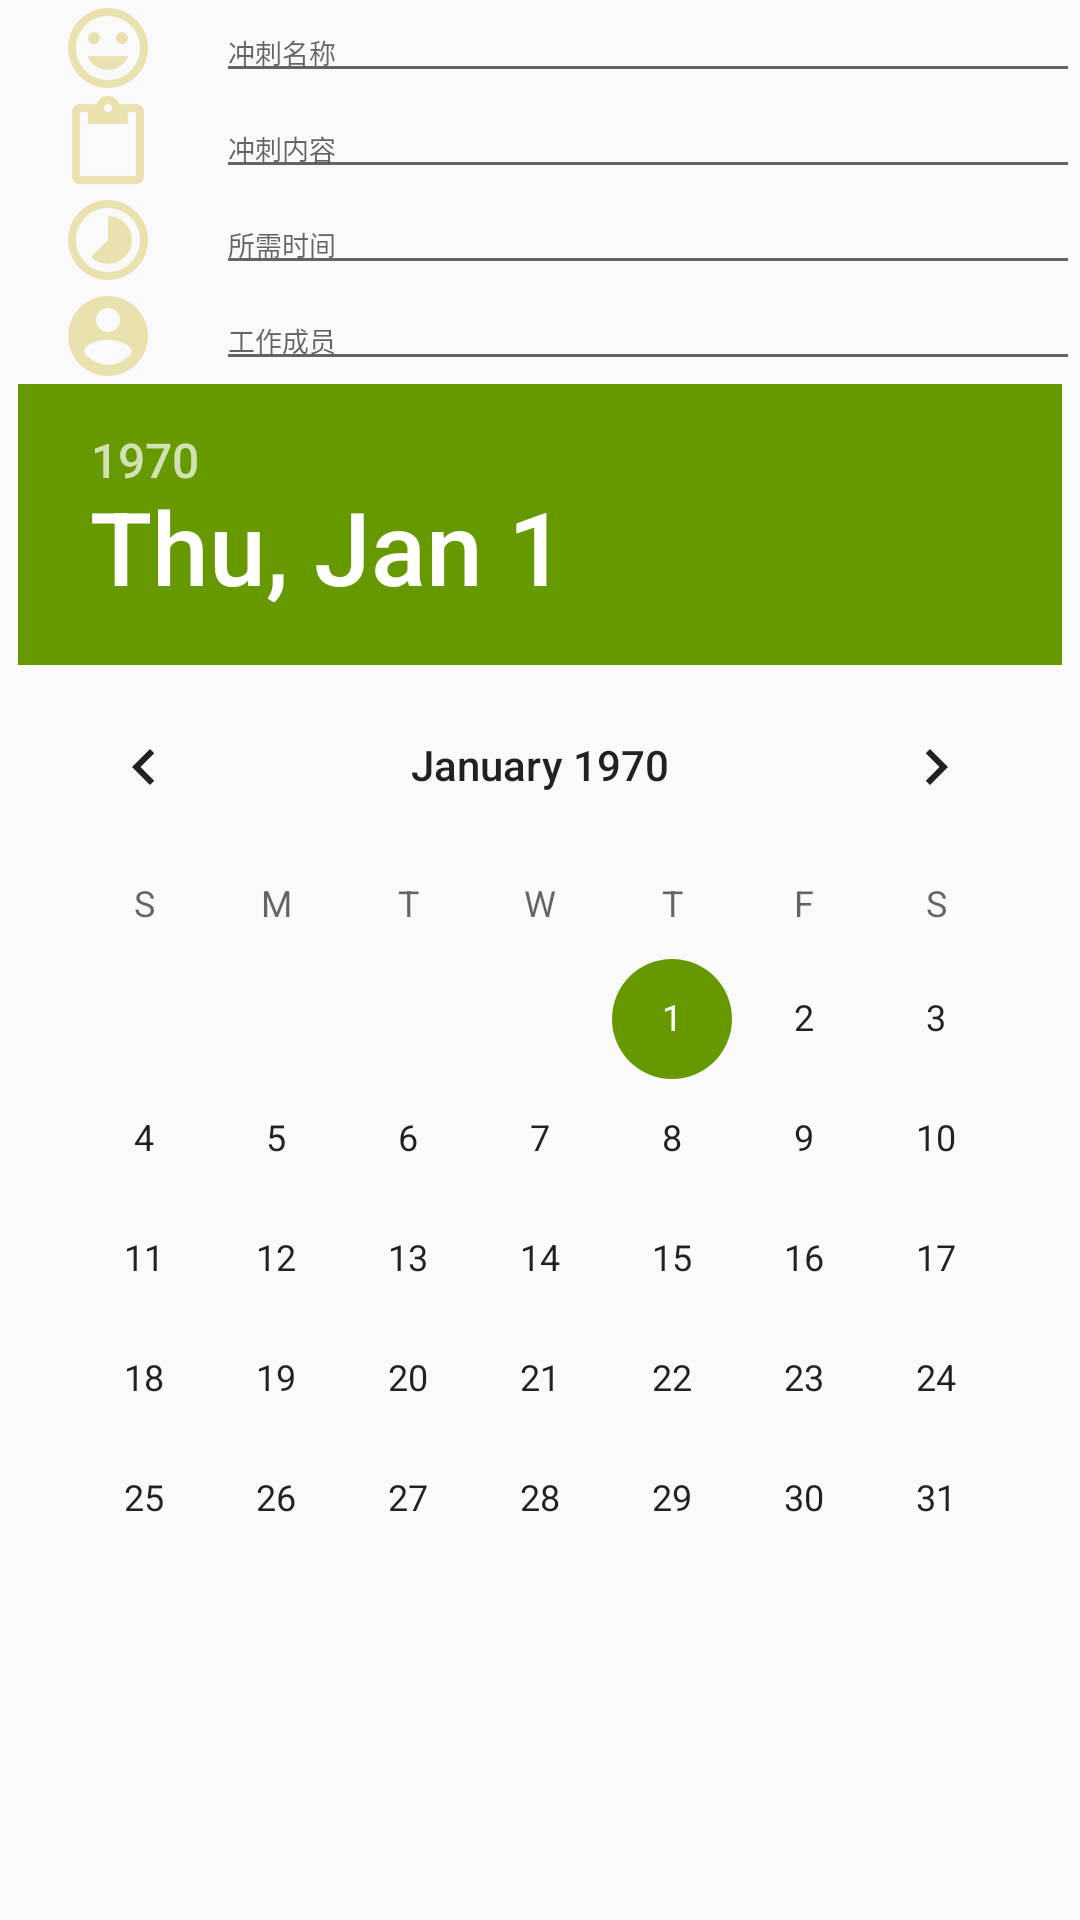

Icons on this 1080 × 1920 Android screen, each with its box as (x1, y1, x2, y2):
sprint content: (72, 96, 144, 184)
sprint user: (68, 296, 148, 376)
sprint worktime: (68, 200, 148, 280)
